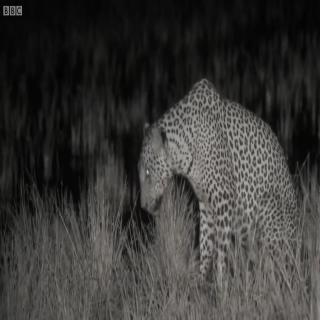Leopard: (124, 72, 312, 303)
